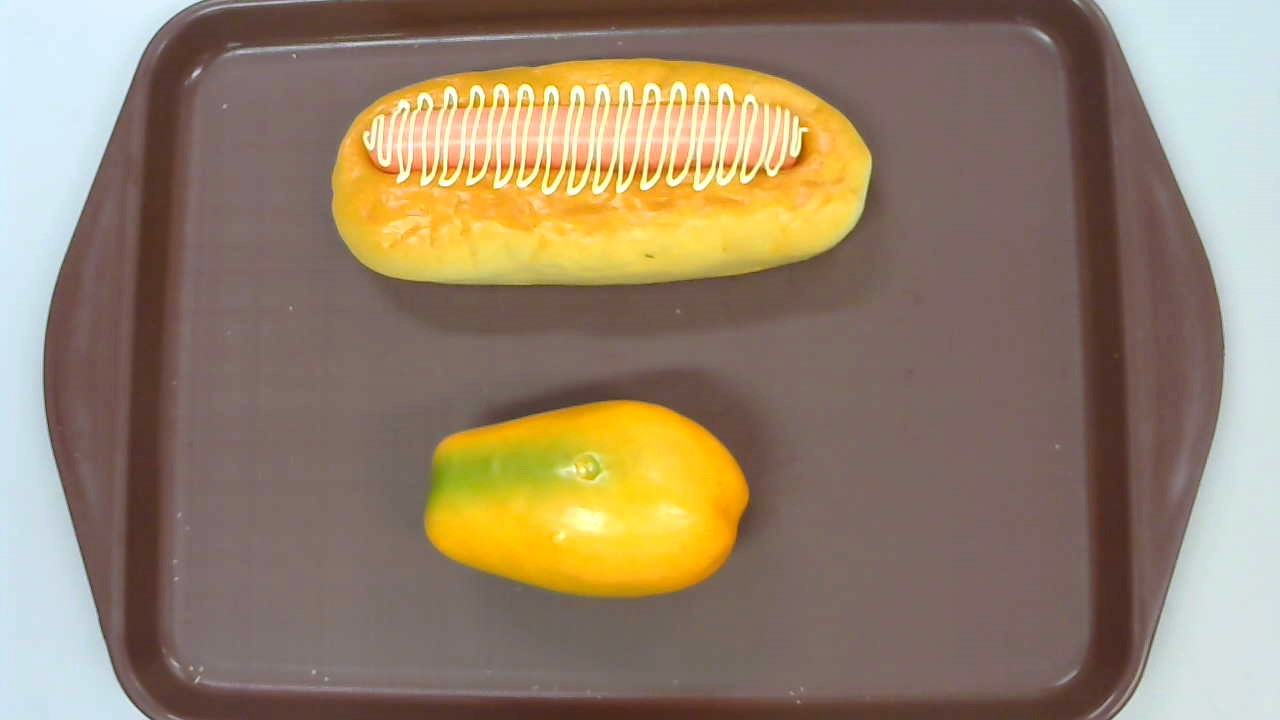hot dog: (332, 59, 872, 287)
papya: (424, 398, 748, 598)
